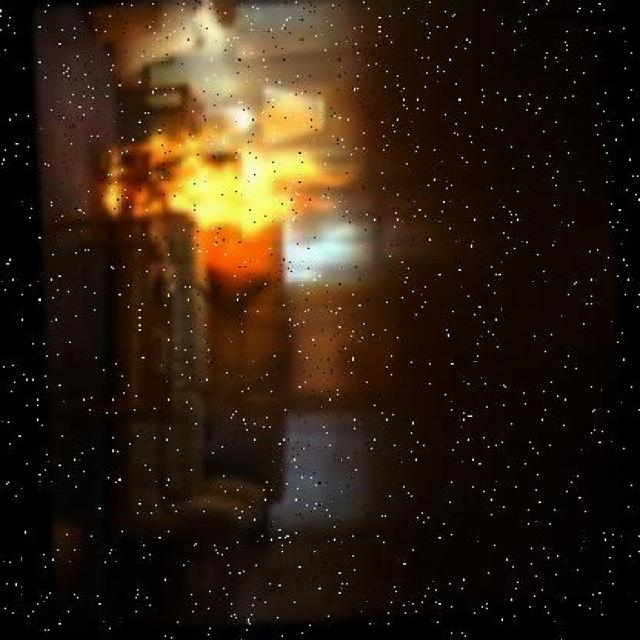fire: (96, 127, 336, 247)
